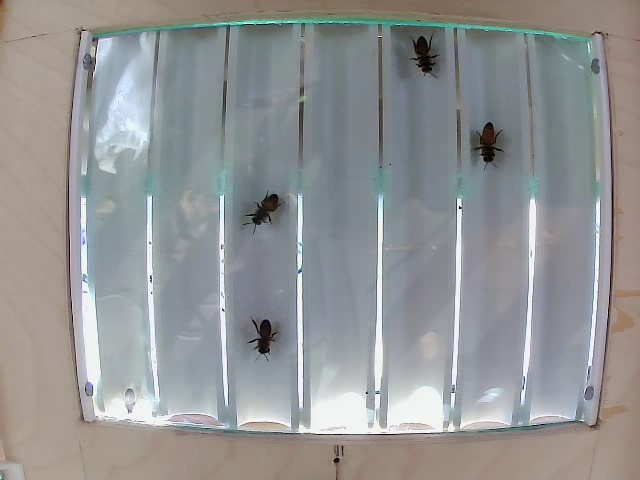bee: (406, 27, 444, 82), (471, 119, 506, 172), (246, 316, 281, 363), (247, 191, 283, 233)
